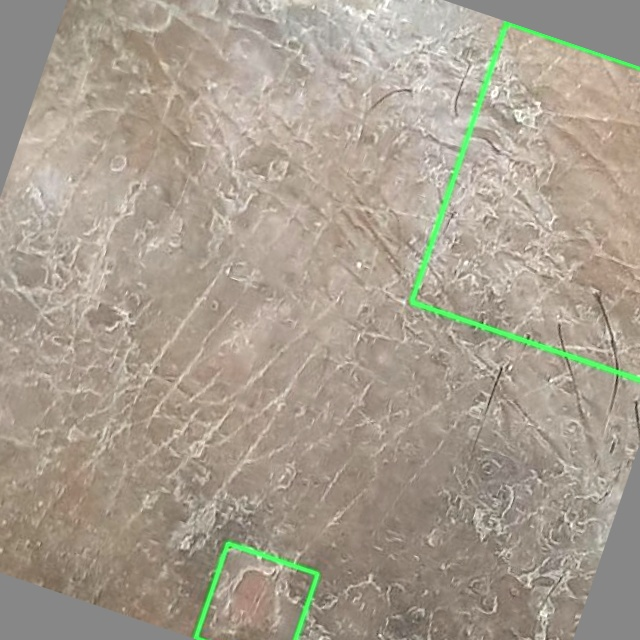Eczema: (411, 22, 639, 380), (195, 543, 317, 639)
